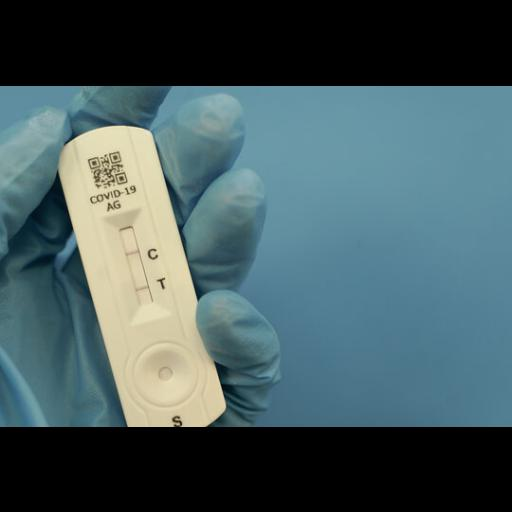Pos: (55, 117, 223, 426)
